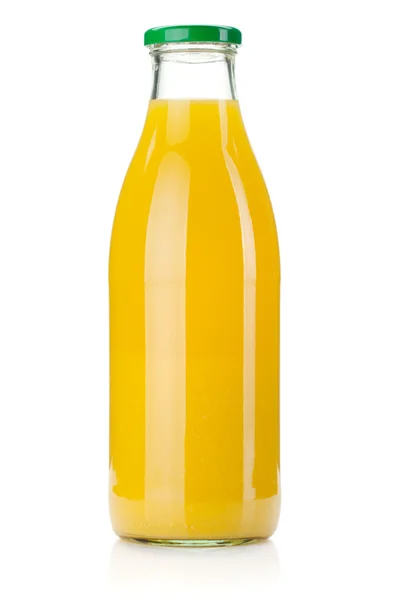glass_bottle: (102, 14, 290, 553)
